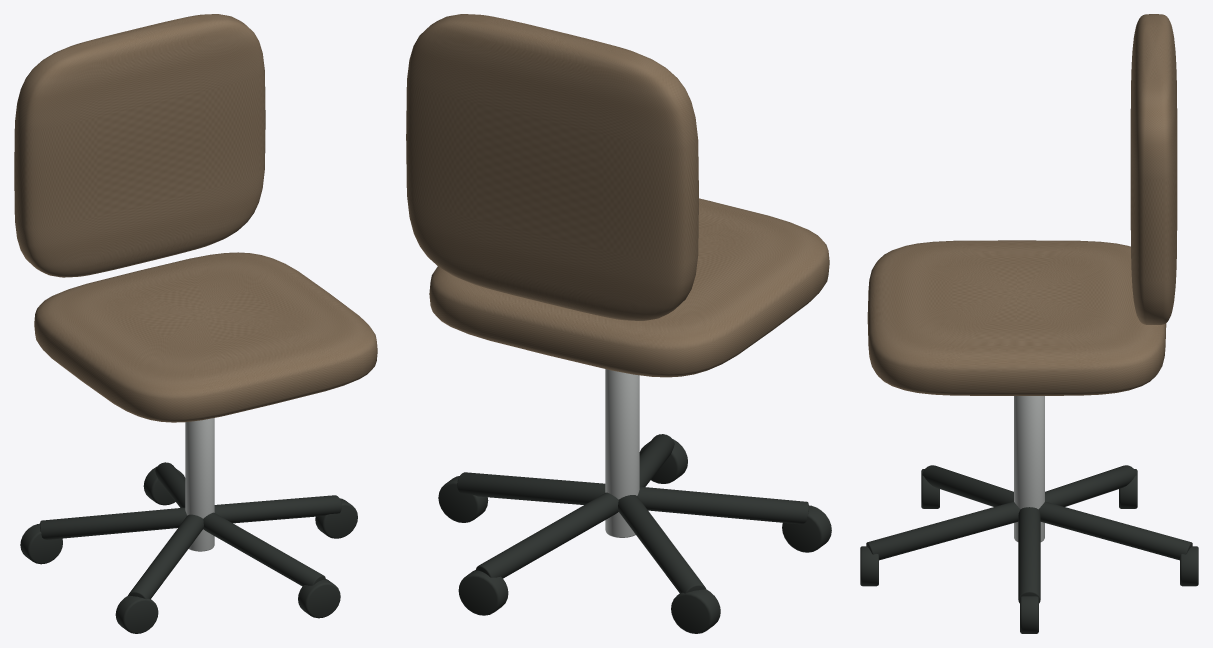
The model's file is desk-chair.glb.
3 renders of one model, left to right at view 1: azimuth 30°, elevation 25°; view 2: azimuth 150°, elevation 25°; view 3: azimuth 270°, elevation 25°, orthographic. The views are drawn at different scales.
Parts seen in each view (by area): view 1: desk-chair-mesh; view 2: desk-chair-mesh; view 3: desk-chair-mesh.
Part boxes in pixels (x1,y1,x2,y2): desk-chair-mesh: (14,14,377,633); desk-chair-mesh: (406,14,831,633); desk-chair-mesh: (860,14,1198,633).
Bounding box in the file's own units: 0.6 × 1 × 0.6.
3 materials, 1 textured.
